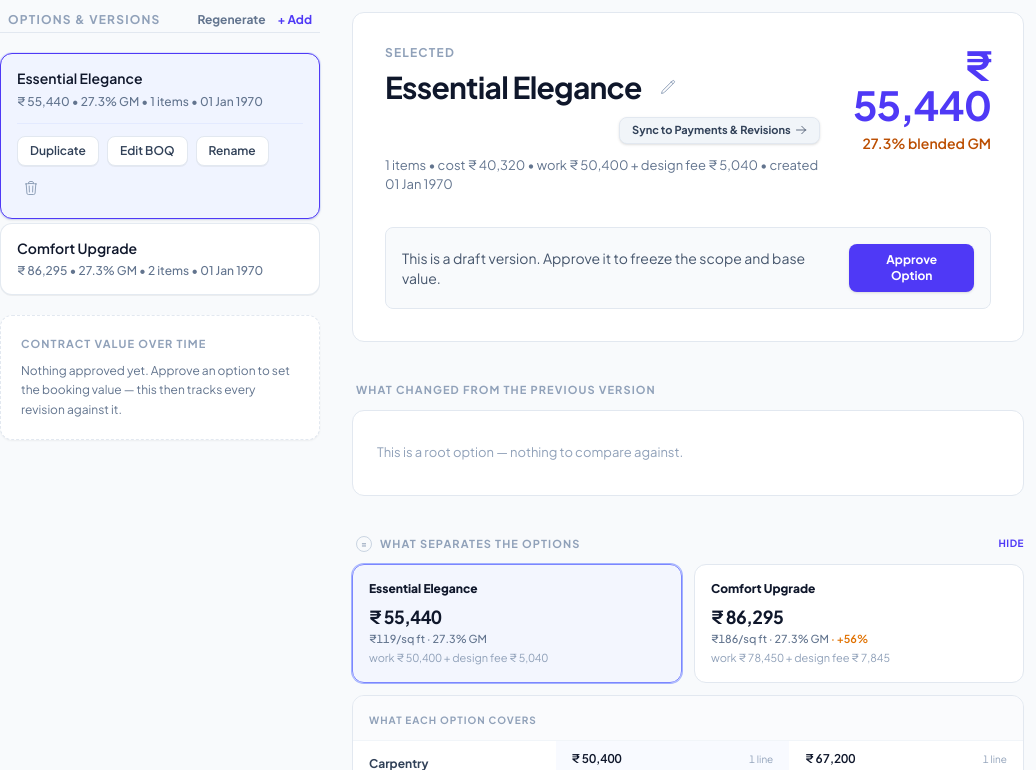
Test: Pricing & Tiers: an approval can be reverted › with nothing approved before, the option is a draft again and nothing is approved
Click the button "Approve Option": (912, 268) x1=850 y1=244 x2=974 y2=292
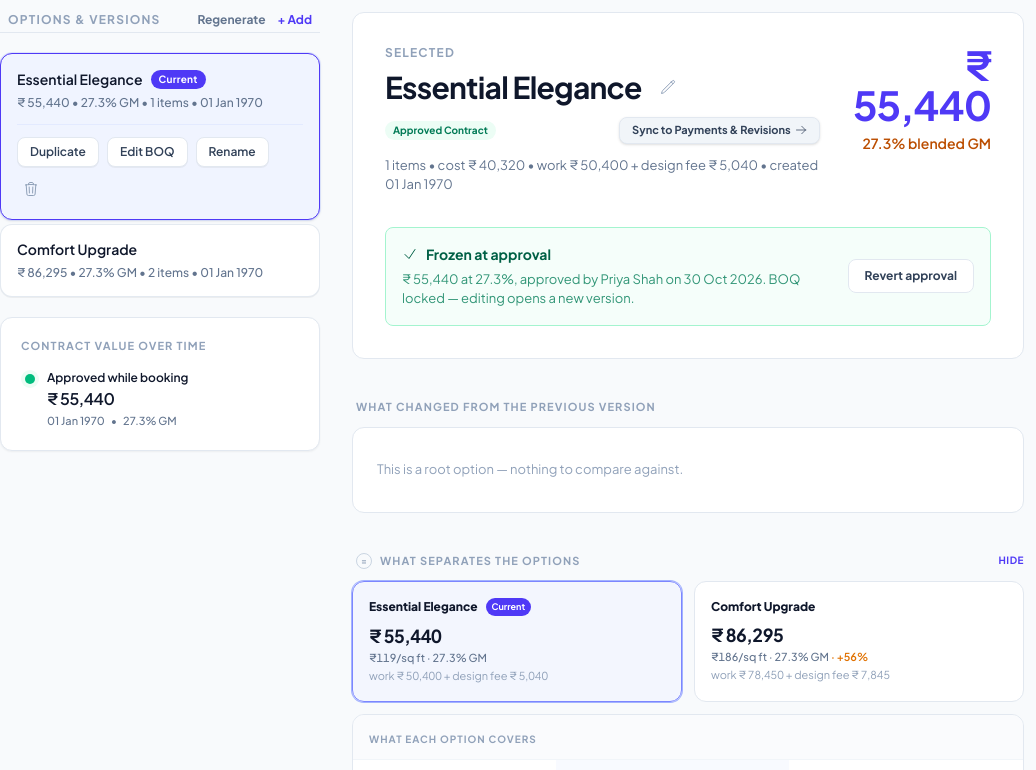
Click the button "Revert approval": (911, 276) x1=848 y1=259 x2=974 y2=293
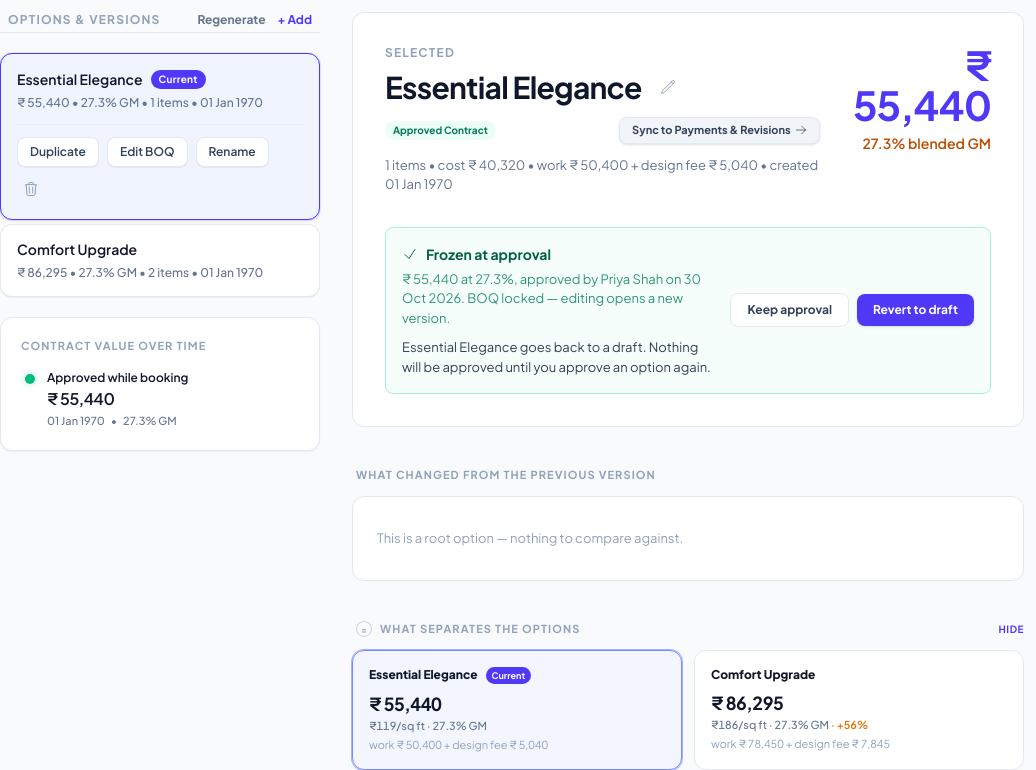
Result: the text with test id "revert-approval-confirm" shows "Nothing will be approved" at x1=402 y1=339 x2=711 y2=374
Click the button "Revert to draft": (916, 310) x1=857 y1=294 x2=974 y2=326
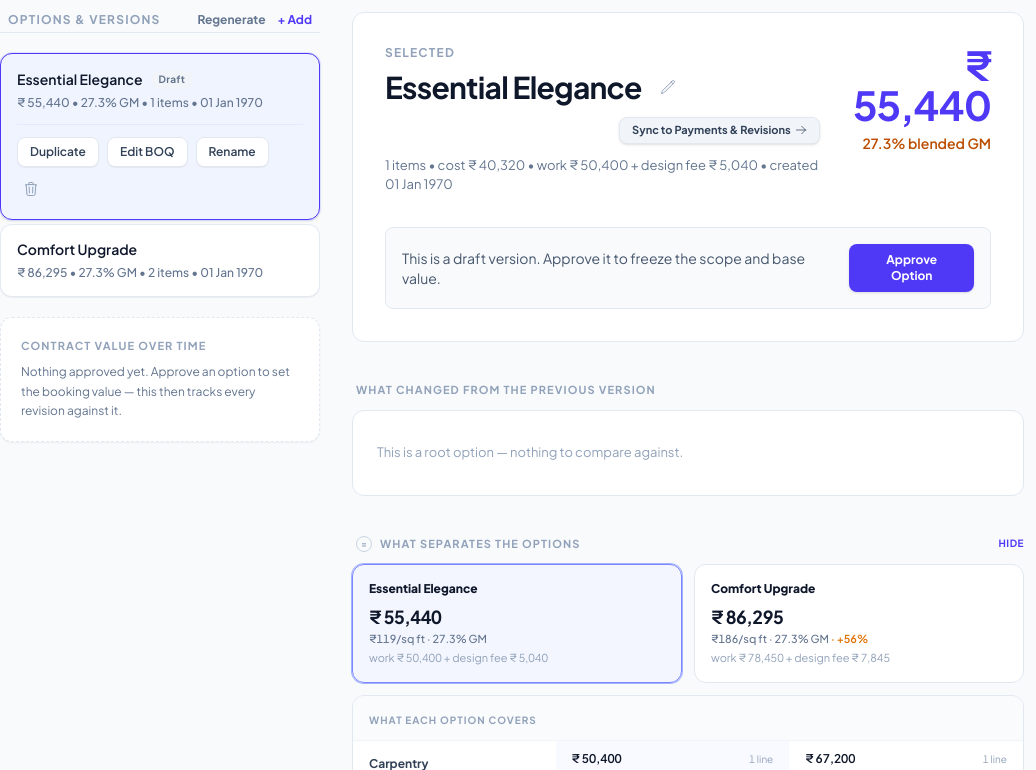
Result: the text "Draft" is shown at x1=151 y1=70 x2=193 y2=89
Result: the button "Approve Option" is shown at x1=850 y1=244 x2=974 y2=292
